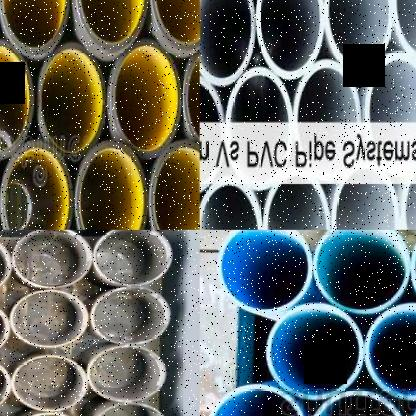pipe: (267, 304, 363, 400), (110, 42, 181, 159), (216, 230, 312, 314), (313, 230, 409, 313), (37, 41, 105, 158), (0, 141, 73, 230), (75, 142, 147, 230), (256, 0, 324, 80), (88, 286, 172, 346), (8, 289, 90, 349), (365, 305, 416, 400), (325, 0, 392, 72), (199, 0, 254, 86), (12, 230, 92, 289), (331, 162, 400, 230), (92, 230, 173, 287), (11, 353, 89, 412), (87, 346, 168, 402), (150, 140, 200, 230), (0, 39, 34, 157), (263, 172, 331, 230), (0, 0, 69, 56), (76, 0, 149, 51), (200, 178, 263, 230), (207, 384, 306, 416), (150, 0, 200, 53), (308, 389, 406, 416), (183, 38, 200, 154), (392, 0, 416, 64), (400, 151, 416, 230), (90, 402, 170, 416), (0, 232, 15, 296), (12, 411, 90, 416)
